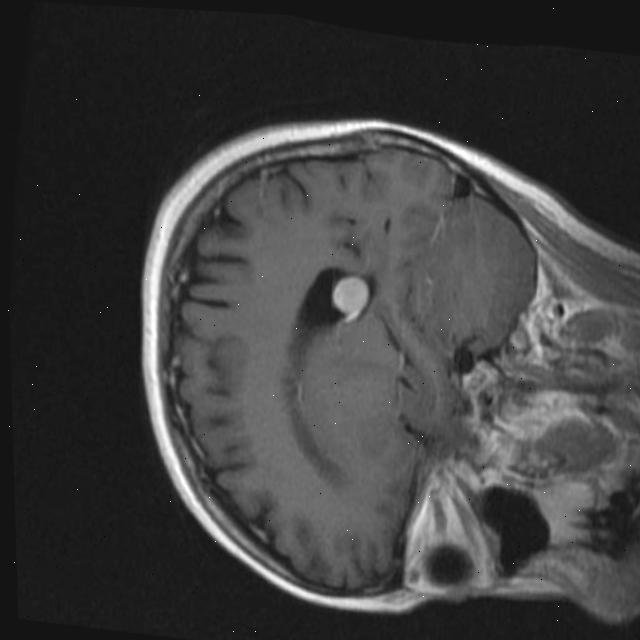Meningioma: (329, 273, 370, 325)
